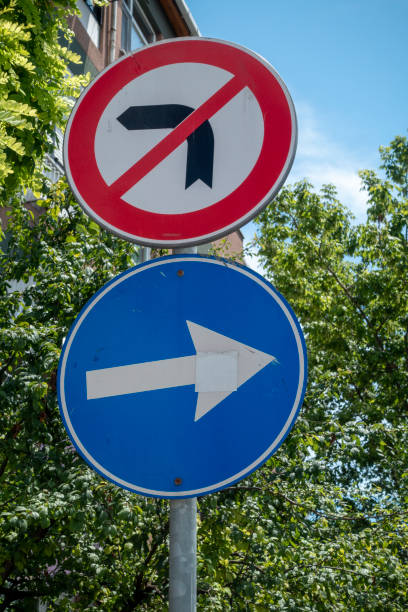sola_girilmez: (60, 38, 294, 241)
